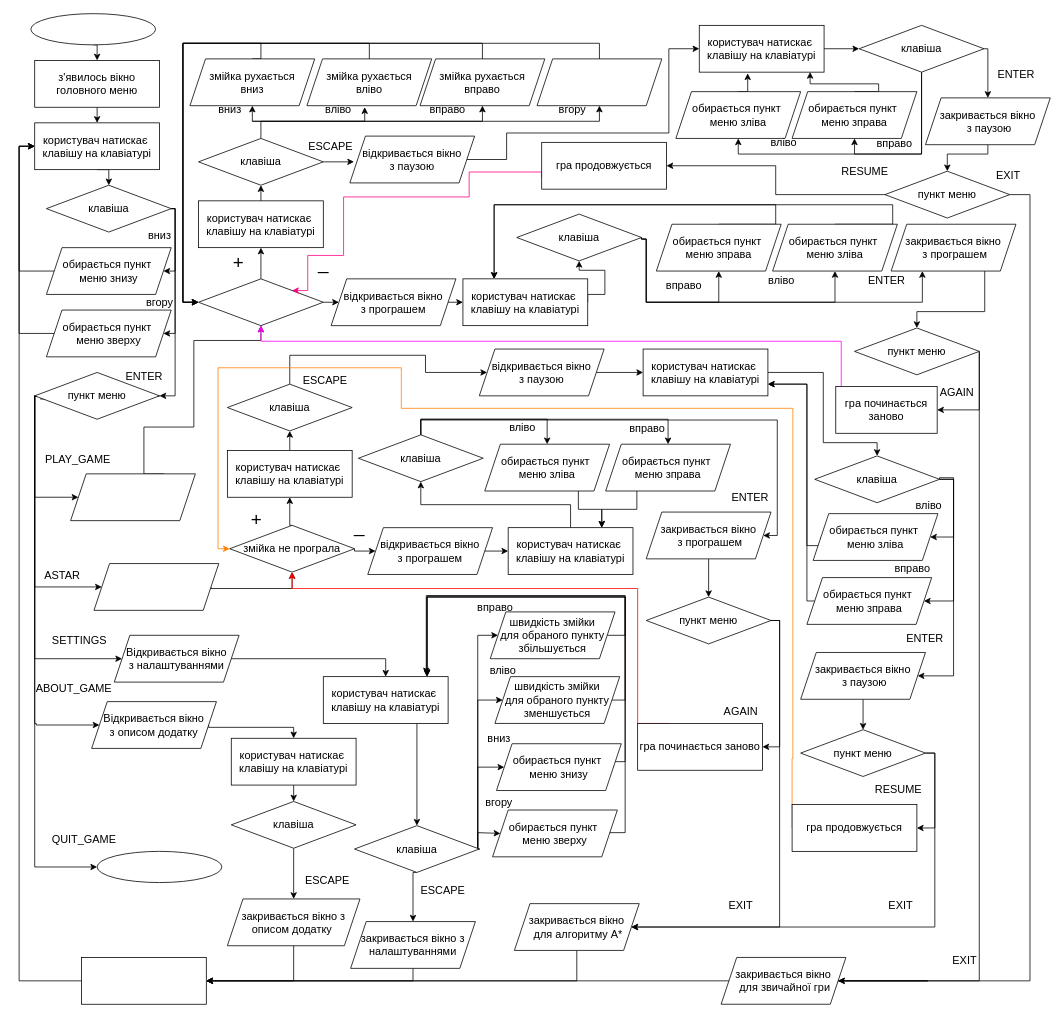
Image size: 1064x1018. Some labels were removed from this diagram. Each missing label, with the centre of its shape:
Відкривається вікно для алгоритму A*: (x=156, y=586)
Відкривається вікно для звичайної гри: (x=132, y=497)
запуск додатку: (x=93, y=29)
змійка рухається вгору: (x=599, y=82)
користувач не програв: (x=260, y=302)
користувач повертається до головного меню: (x=143, y=980)
кінець роботи програми: (x=159, y=867)
